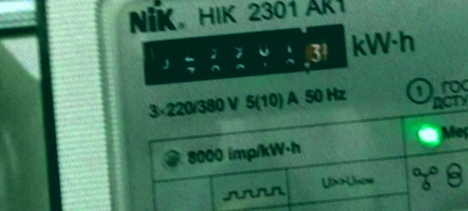0: (254, 32, 270, 58), (154, 47, 172, 70)
1: (279, 31, 294, 55)
2: (179, 42, 196, 63)
3: (307, 39, 322, 62)
9: (229, 36, 245, 59), (204, 38, 218, 61)
screen: (126, 11, 358, 95)
